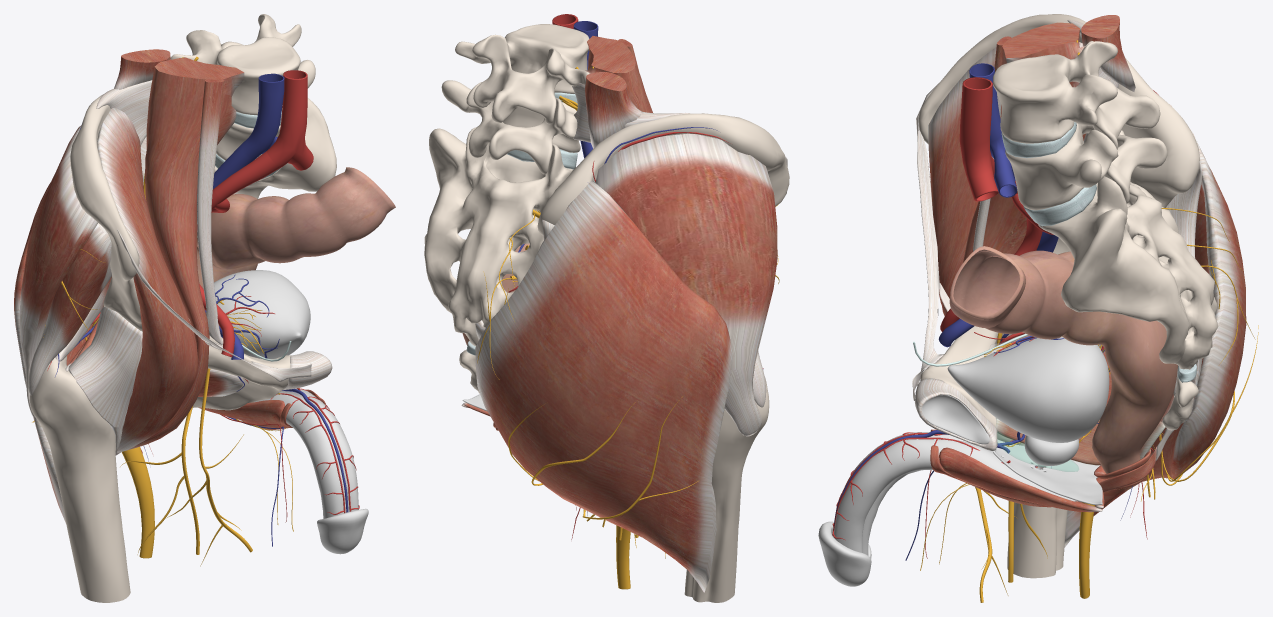
Rendered from pelvicfloor.glb.
3 views of the same model, side by side, from view 1: azimuth 30°, elevation 25°; view 2: azimuth 150°, elevation 25°; view 3: azimuth 270°, elevation 25° (orthographic). The views are drawn at different scales.
Parts seen in each view (by area): view 1: Psoas major.r, Iliacus muscle.r, Femur.r, Sigmoid colon / rectum, Hip bone.r, Gluteus medius muscle.r, Urinary bladder, Hip joint capsule.r, Gluteus minimus muscle.r, Lumbar vertebrae (L4), Corpus cavernosum of penis, Psoas minor.r (+20 smaller); view 2: Gluteus maximus muscle.r, Gluteus medius muscle.r, Sacrum, Lumbar vertebrae (L4), Hip bone.r, Femur.r, Lumbar vertebrae (L5), Quadratus lumborum muscle.r, Psoas major.r, Inferior clunial br. of Post. cutaneous nerve of the thigh.r, Iliolumbar ligament .r, Schiatic nerve.r (+1 smaller); view 3: Sigmoid colon / rectum, Sacrum, Urinary bladder, Gluteus maximus muscle.r, Lumbar vertebrae (L4), Hip bone.r, Lumbar vertebrae (L5), Iliacus muscle.r, Corpus cavernosum of penis, Psoas major.r, Femur.r, Perineal membrane (+28 smaller).
Boxes of the visible parts, x1,y1,x2,y2 form: Psoas major.r: (115,57,244,455); Iliacus muscle.r: (97,108,198,452); Femur.r: (29,356,130,602); Sigmoid colon / rectum: (197,167,395,288); Hip bone.r: (70,94,290,410); Gluteus medius muscle.r: (19,125,97,416); Urinary bladder: (214,270,310,358); Hip joint capsule.r: (68,306,142,453); Gluteus minimus muscle.r: (28,223,111,395); Lumbar vertebrae (L4): (170,14,301,115); Corpus cavernosum of penis: (253,388,358,518); Psoas minor.r: (197,79,224,344); Gluteus maximus muscle.r: (475,181,732,592); Gluteus medius muscle.r: (595,133,777,436); Sacrum: (424,127,572,346); Lumbar vertebrae (L4): (455,24,589,124); Hip bone.r: (537,113,789,235); Femur.r: (684,376,769,602); Lumbar vertebrae (L5): (441,80,580,174); Quadratus lumborum muscle.r: (584,72,643,148); Psoas major.r: (585,36,652,112); Inferior clunial br. of Post. cutaneous nerve of the thigh.r: (508,396,699,519); Iliolumbar ligament .r: (572,83,689,142); Schiatic nerve.r: (575,505,630,589); Sigmoid colon / rectum: (949,246,1177,473); Sacrum: (1038,130,1218,369); Urinary bladder: (947,336,1109,442); Gluteus maximus muscle.r: (1064,104,1246,547); Lumbar vertebrae (L4): (993,41,1160,149); Hip bone.r: (918,14,1199,445); Lumbar vertebrae (L5): (1005,123,1167,210); Iliacus muscle.r: (928,42,1085,316); Corpus cavernosum of penis: (833,432,1077,552); Psoas major.r: (963,22,1084,262); Femur.r: (1007,502,1067,578); Perineal membrane: (993,439,1102,505).
Size of the model in its own units: 0.2197 by 0.3308 by 0.2215.
Materials: 24 (10 with a texture image).
